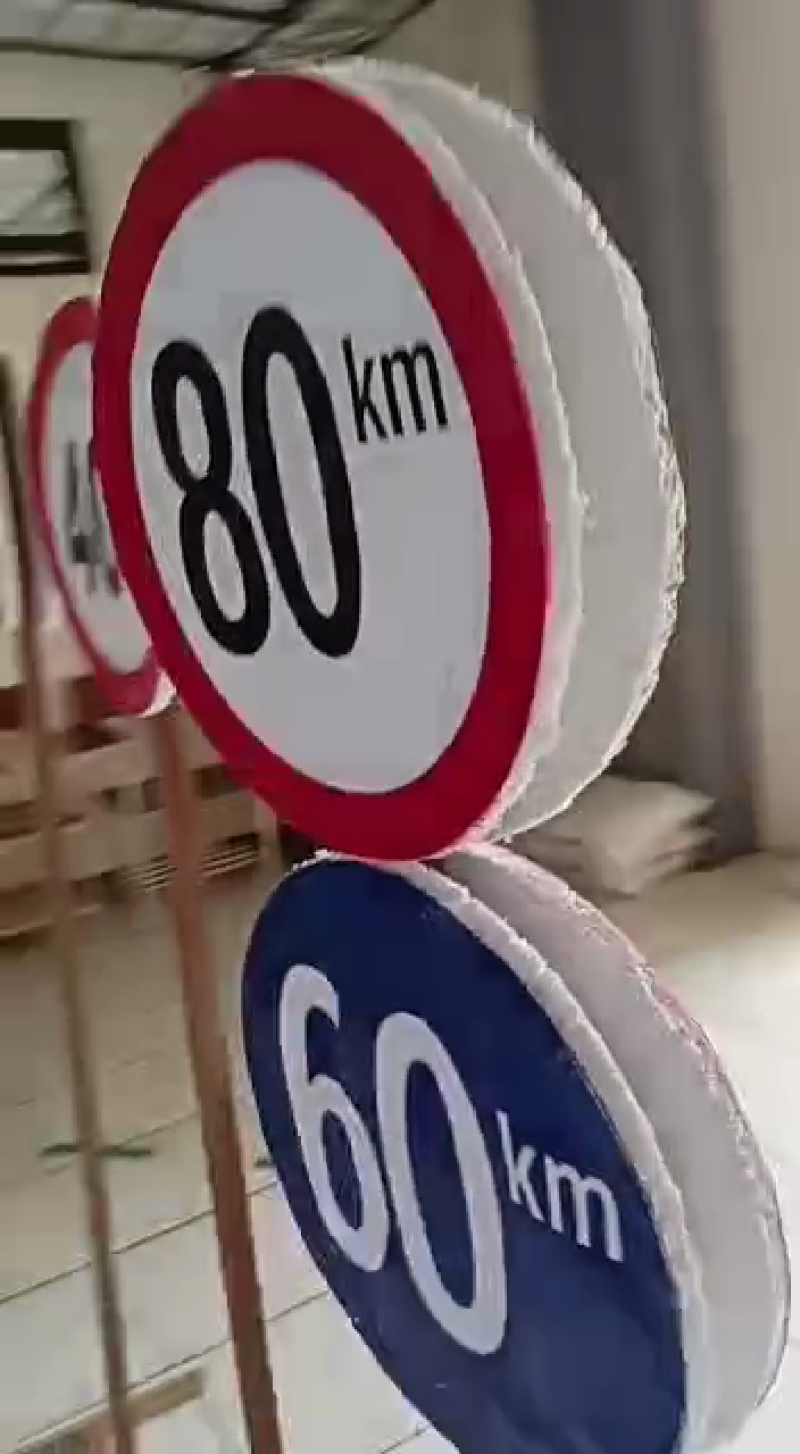batas maksimal 80kmperjam minimal 60kmperjam: (87, 56, 711, 1454)
